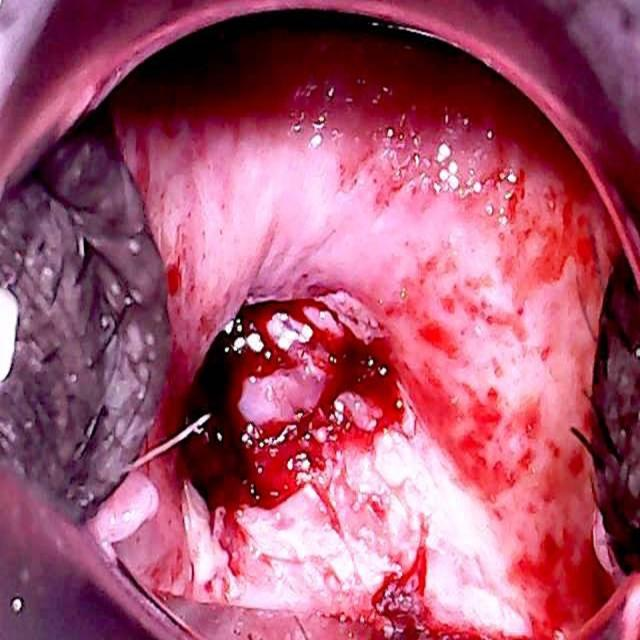cervical_lesion: (119, 53, 572, 638)
